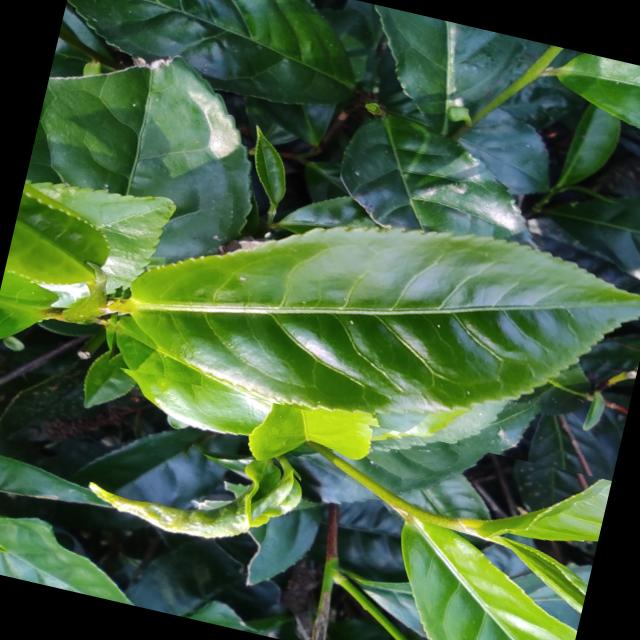Category B(2-4 days): (96, 145, 640, 480)
